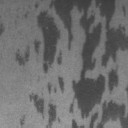red iron: (16, 0, 128, 128), (30, 93, 60, 128), (46, 76, 66, 94), (20, 115, 26, 128), (0, 21, 5, 36), (123, 6, 126, 16), (125, 84, 128, 92), (24, 13, 28, 18)
